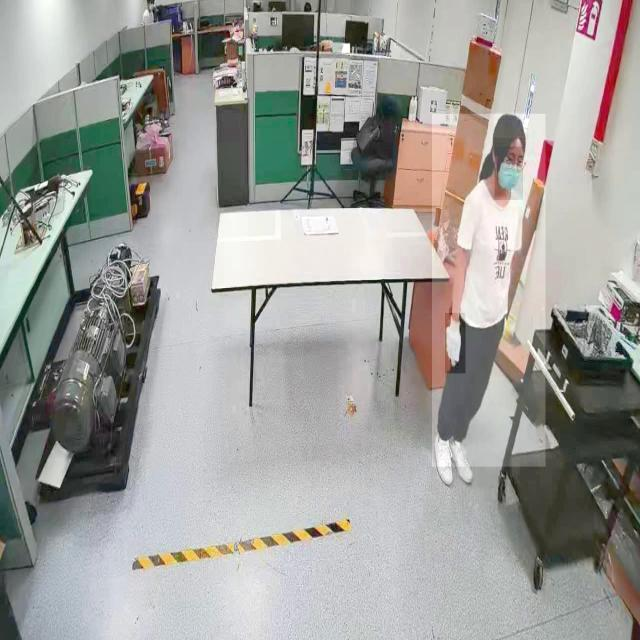face_mask: (495, 147, 523, 200)
glasses: (501, 152, 527, 175)
hand_glove: (444, 313, 466, 374)
head_nohelmet: (493, 112, 527, 139)
person: (432, 114, 546, 468)
shoes: (432, 420, 455, 490), (452, 434, 474, 485)
